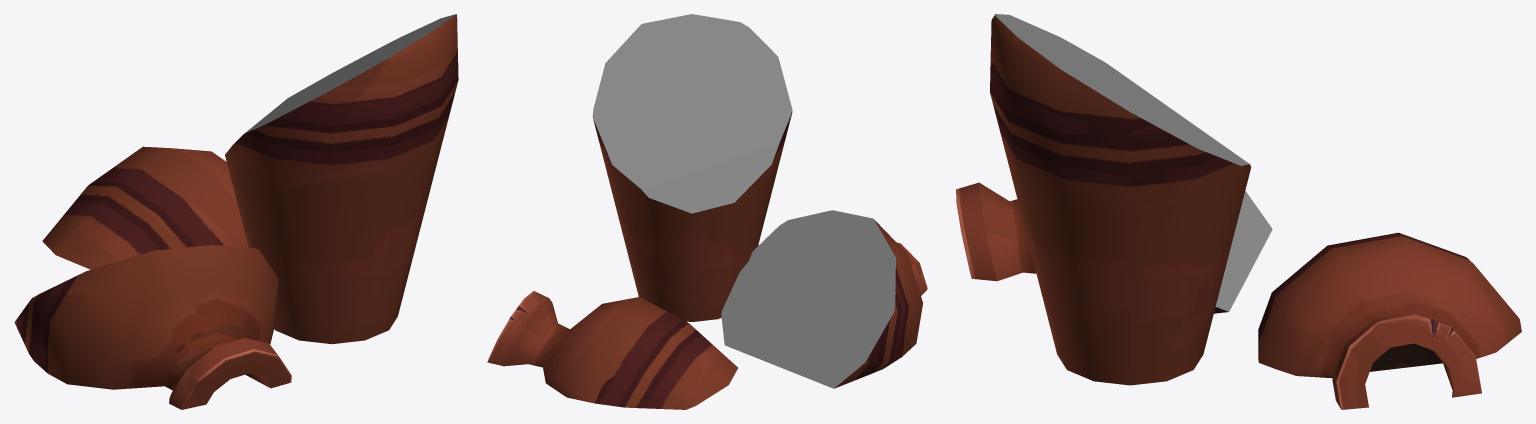
Rendered from Vase_Broken.gltf.
The picture shows the model from 3 angles, left to right: view 1: azimuth 30°, elevation 25°; view 2: azimuth 150°, elevation 25°; view 3: azimuth 270°, elevation 25°; orthographic projection. The views are drawn at different scales.
Visible parts, largest first — view 1: SM_PROP_pot_dungeon_10_cell.001; view 2: SM_PROP_pot_dungeon_10_cell.001; view 3: SM_PROP_pot_dungeon_10_cell.001.
Boxes of the visible parts, box(x1,y1,x2,y2) form: SM_PROP_pot_dungeon_10_cell.001: box(14, 14, 458, 409); SM_PROP_pot_dungeon_10_cell.001: box(487, 14, 927, 409); SM_PROP_pot_dungeon_10_cell.001: box(956, 14, 1521, 409).
Size of the model in its own units: 0.7274 by 0.5587 by 0.8172.
Materials: 2 (1 with a texture image).
